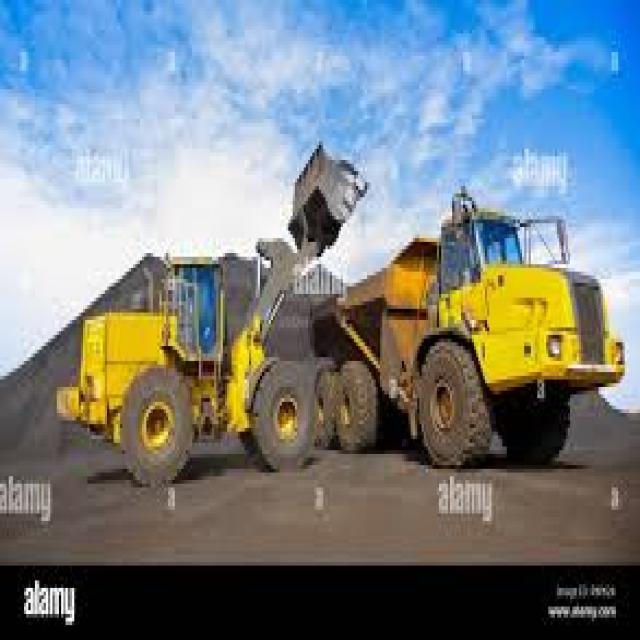buldozerpayloadergrader: (63, 149, 354, 495)
dump_truck: (345, 212, 623, 473)
